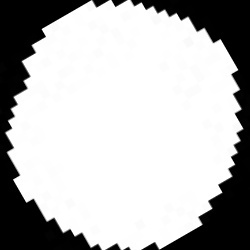spot: (8, 3, 242, 248)
